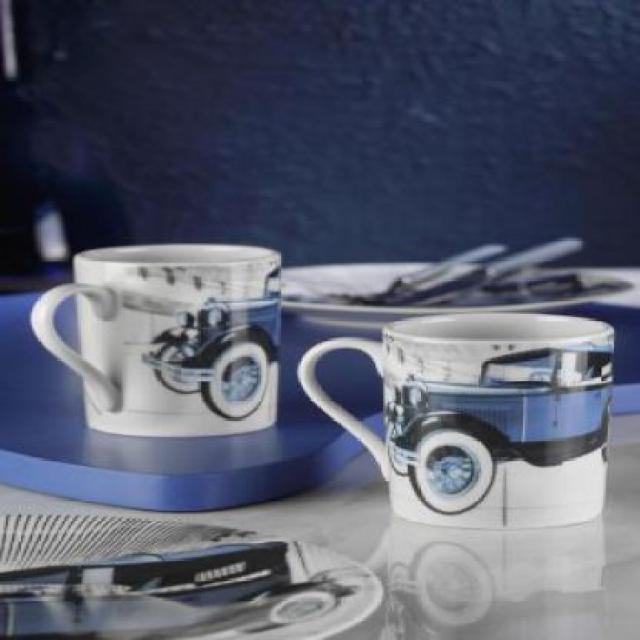taza: (298, 312, 616, 528), (32, 242, 282, 436)
